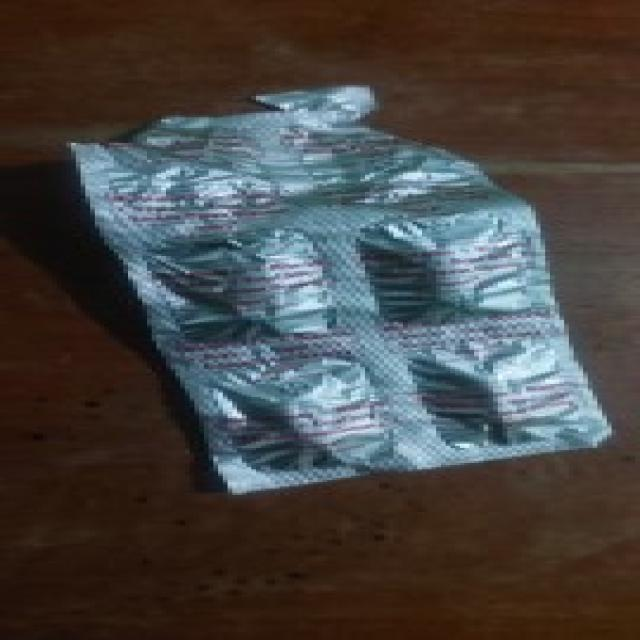Cacat: (59, 76, 618, 496)
Kemasan: (99, 77, 427, 161)
